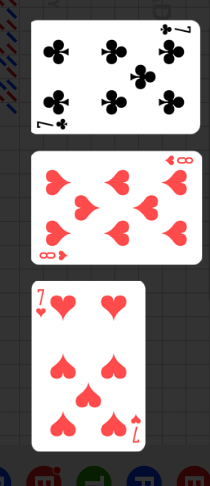7C: (36, 116, 70, 131)
7H: (130, 412, 143, 444), (35, 287, 48, 318)
